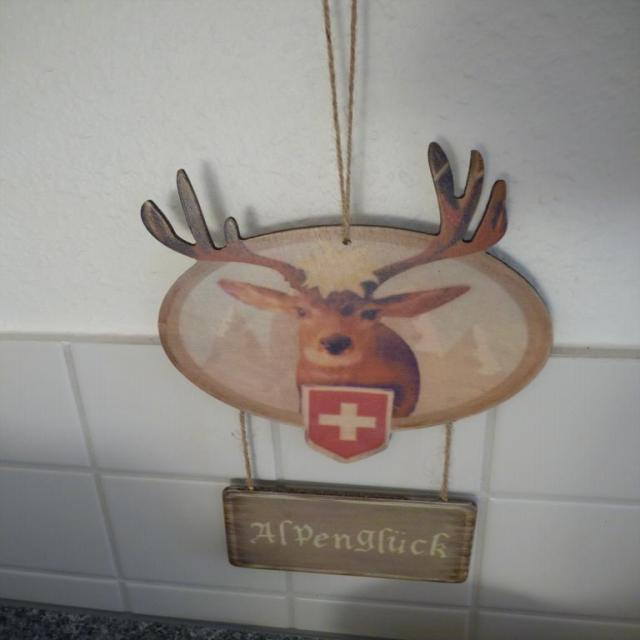Deer: (140, 141, 509, 418)
